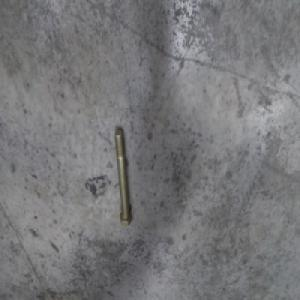Bolt: (115, 126, 134, 228)
